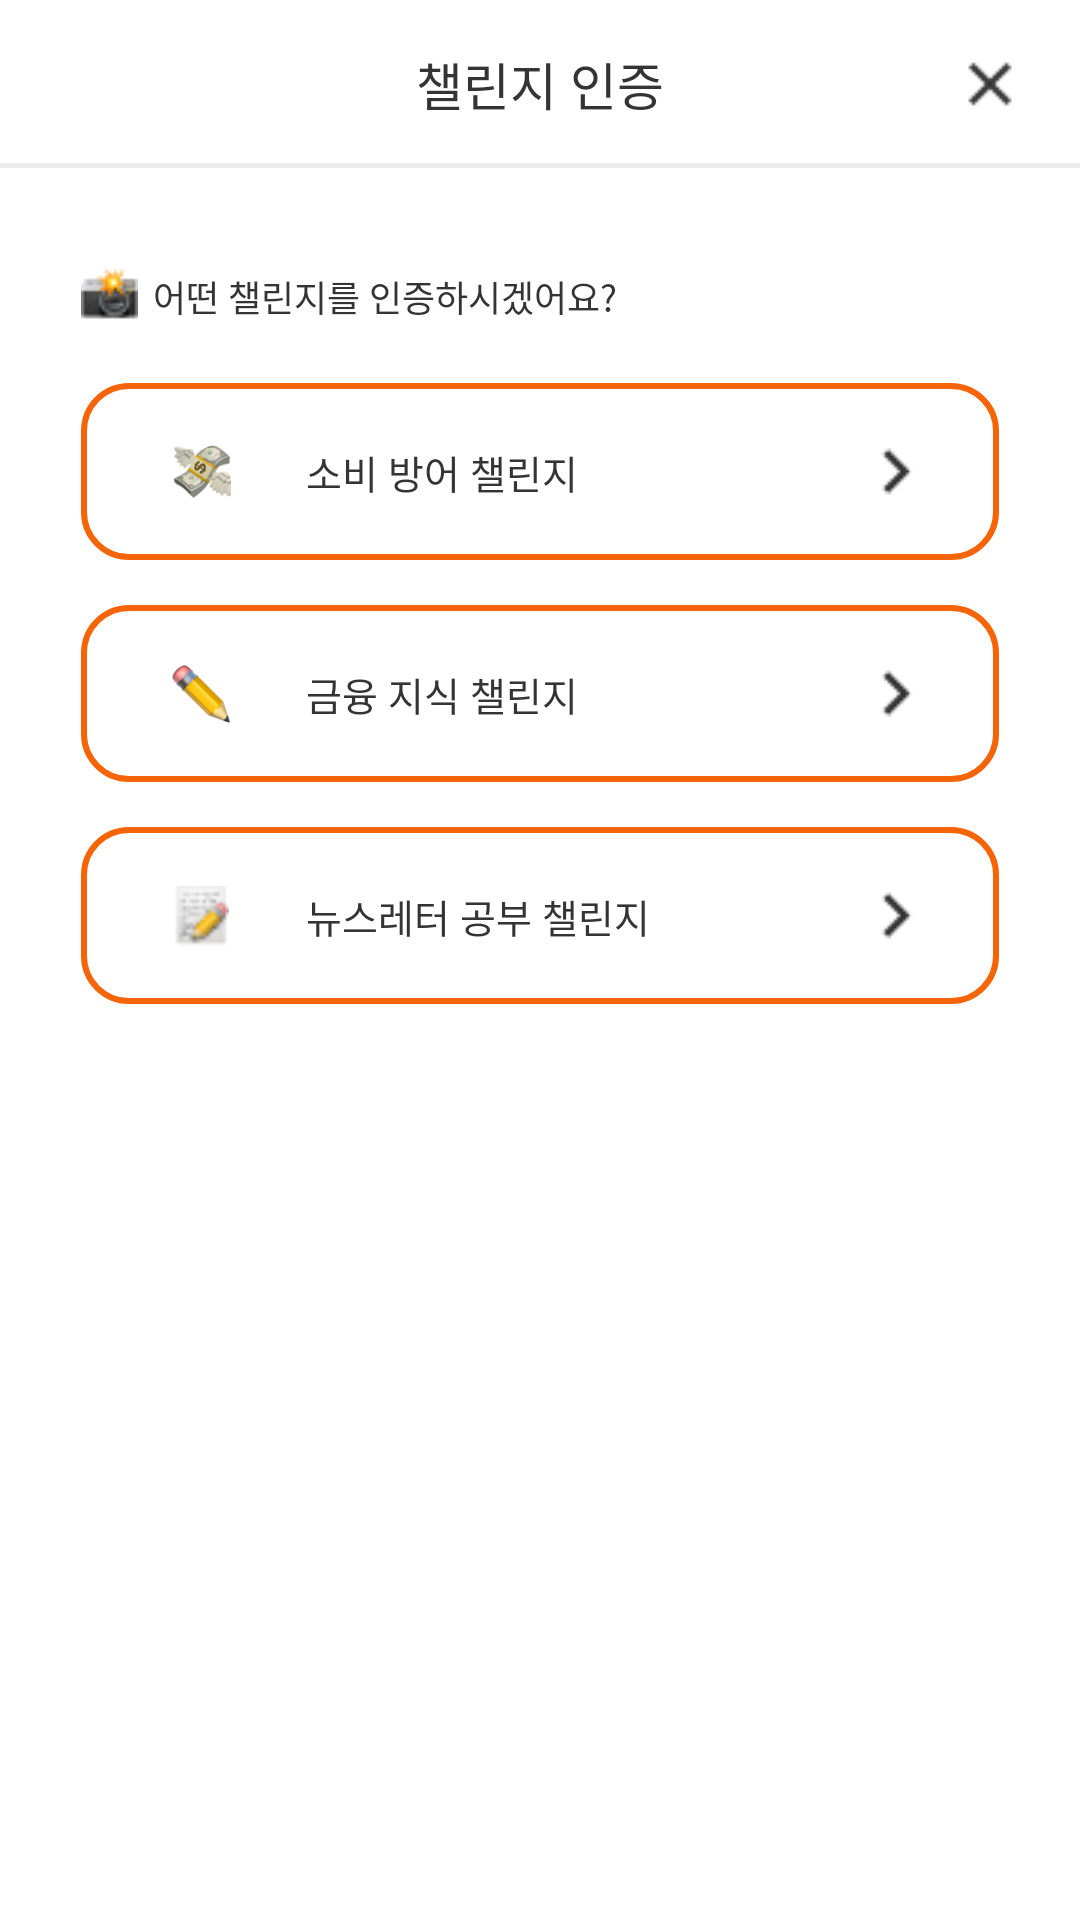

Screen size 1080px×1920px. Icon name, then its center in pixels as (x=x, y=y):
camera: (x=109, y=294)
close: (x=990, y=84)
go to next step: (x=896, y=471), (x=896, y=693), (x=896, y=915)
money: (x=202, y=471)
pencil: (x=201, y=694)
